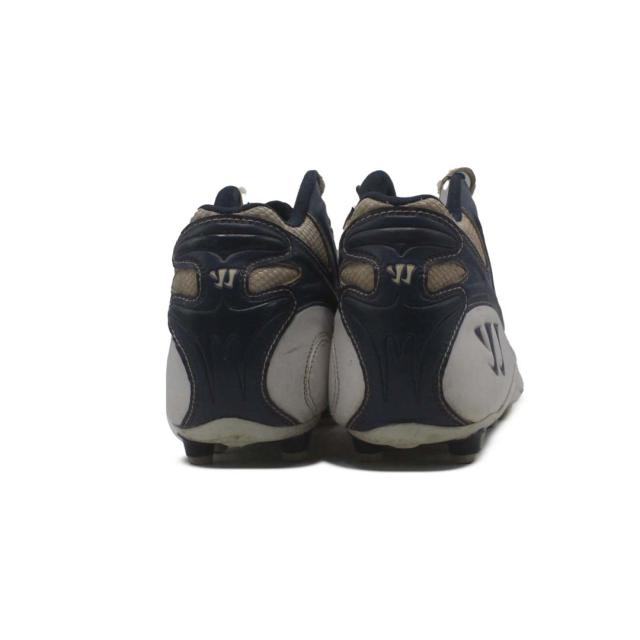heel: (335, 210, 512, 430), (166, 221, 337, 441)
midsole: (179, 415, 320, 462), (351, 413, 495, 459)
